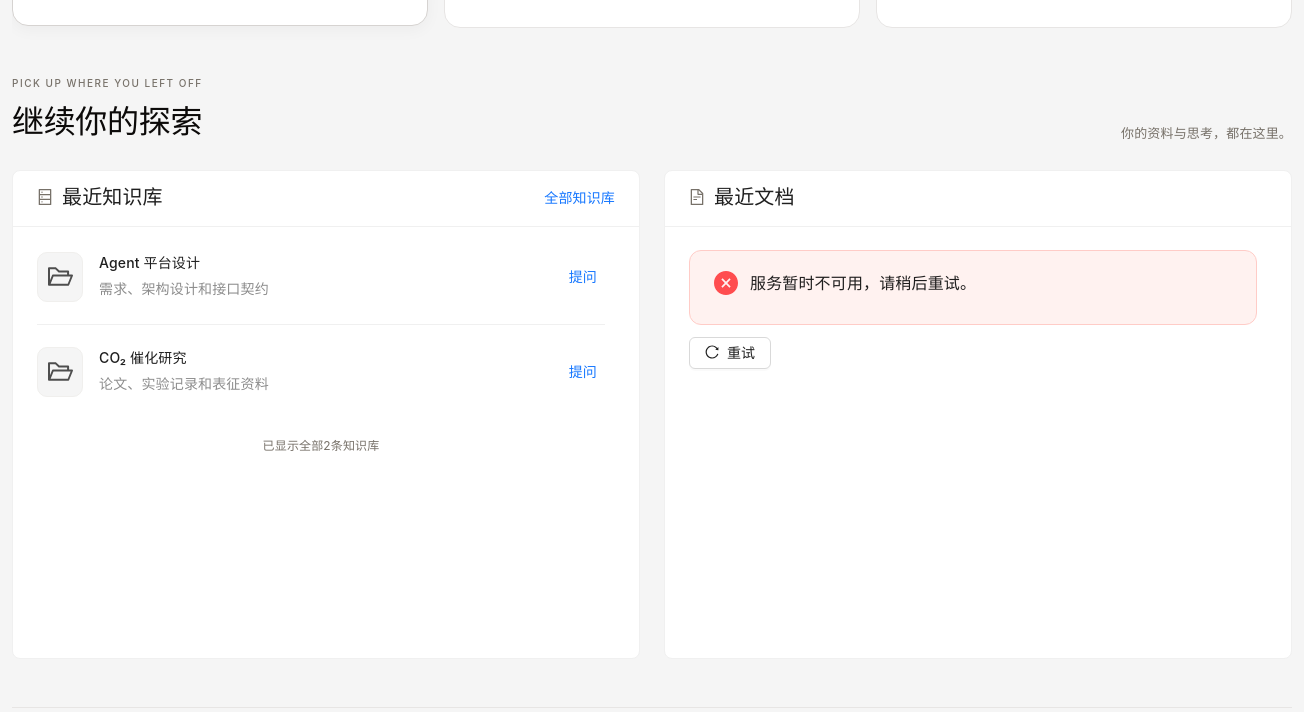
Scenario: FE12 dashboard (MSW) › stops loading on document failure and lets the user retry without losing KBs
(page scrolled)
Check: the link "CO₂ 催化研究" is shown, box 99,349 -> 187,366
Click the button "重试" at (730, 353), box 689,337 -> 771,369
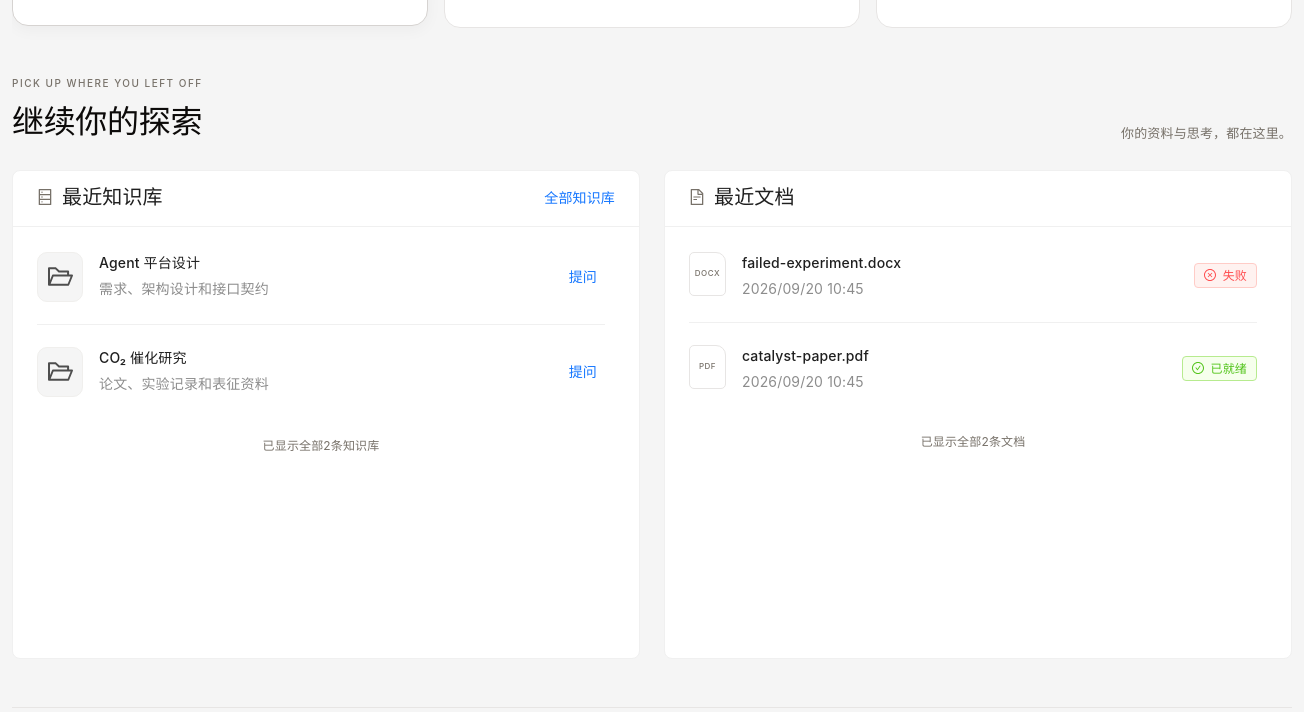
Check: the link "catalyst-paper.pdf" is shown, box 742,347 -> 869,364
Check: the text "重试" is gone
